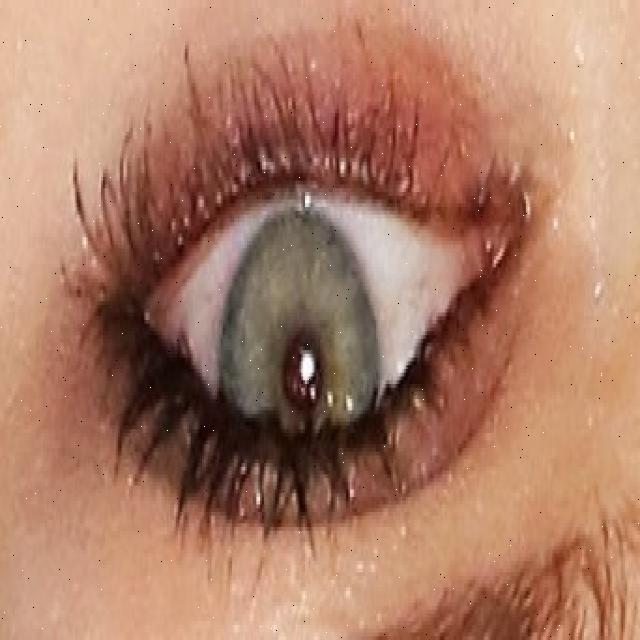Normal: (220, 214, 380, 521)
